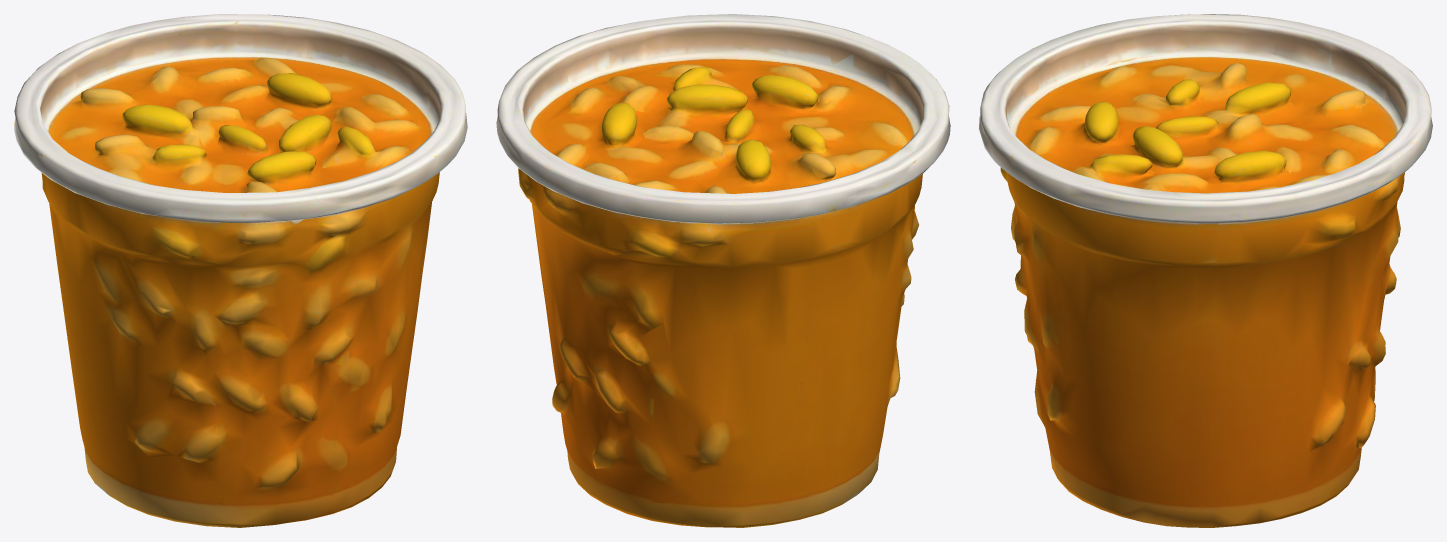
3 views of the same model, side by side, from view 1: azimuth 30°, elevation 25°; view 2: azimuth 150°, elevation 25°; view 3: azimuth 270°, elevation 25° (orthographic).
Visible parts, largest first — view 1: sikhye; view 2: sikhye; view 3: sikhye.
Part boxes in pixels (x1,y1,x2,y2): sikhye: (14,14,467,527); sikhye: (496,14,950,527); sikhye: (979,14,1432,527).
Size of the model in its own units: 0.1848 by 0.16 by 0.1846.
1 material, 1 textured.
